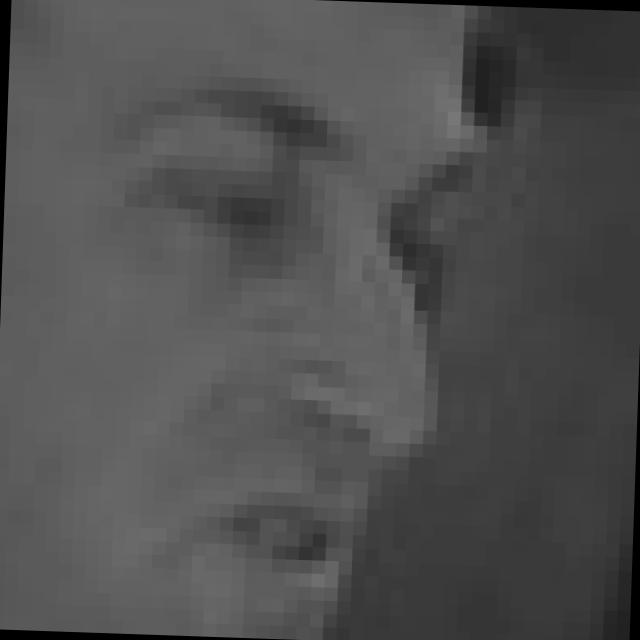disgust: (114, 79, 489, 598)
